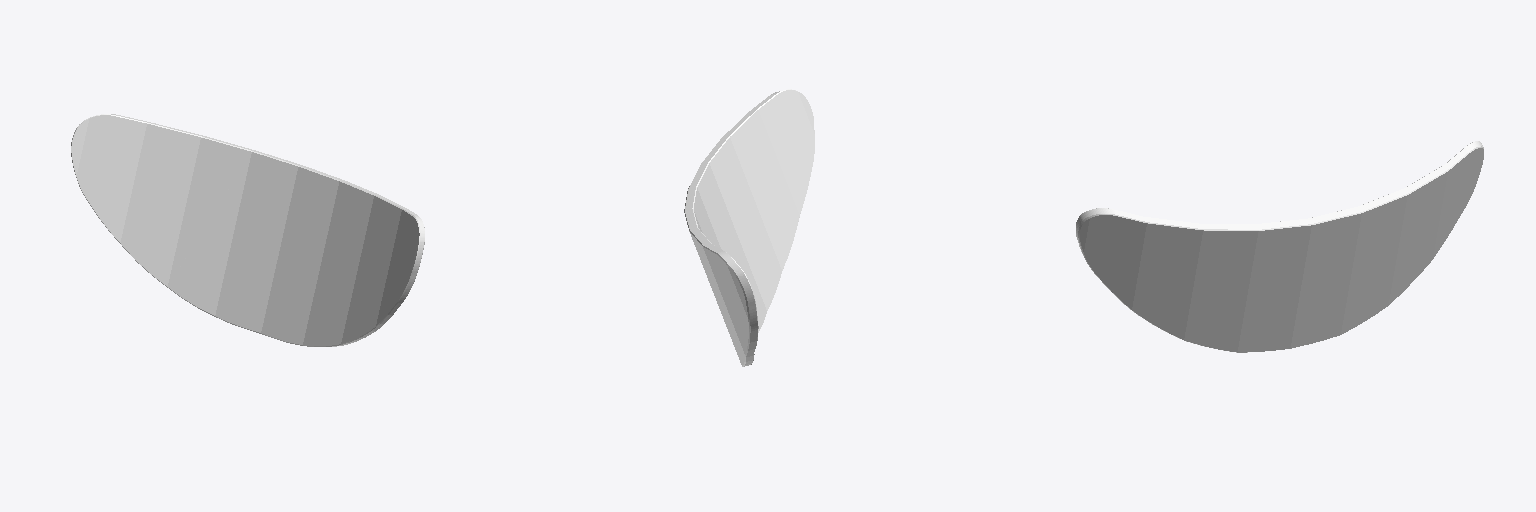
File: back.obj
3 renders of one model, left to right at view 1: azimuth 30°, elevation 25°; view 2: azimuth 150°, elevation 25°; view 3: azimuth 270°, elevation 25°, orthographic.
Visible parts, largest first — view 1: back; view 2: back; view 3: back.
Boxes of the visible parts, x1=… form: back: x1=71, y1=114, x2=424, y2=346; back: x1=684, y1=89, x2=814, y2=366; back: x1=1076, y1=141, x2=1483, y2=352.
Size of the model in its own units: 8.56 by 8.15 by 17.66.